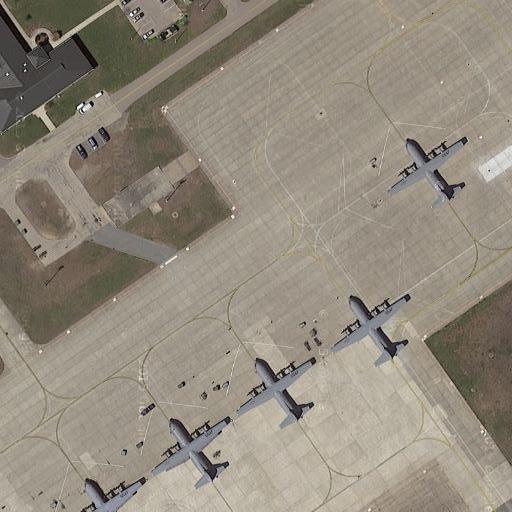C-130: (149, 413, 238, 495), (326, 289, 414, 368), (235, 353, 321, 432), (390, 132, 470, 209)
